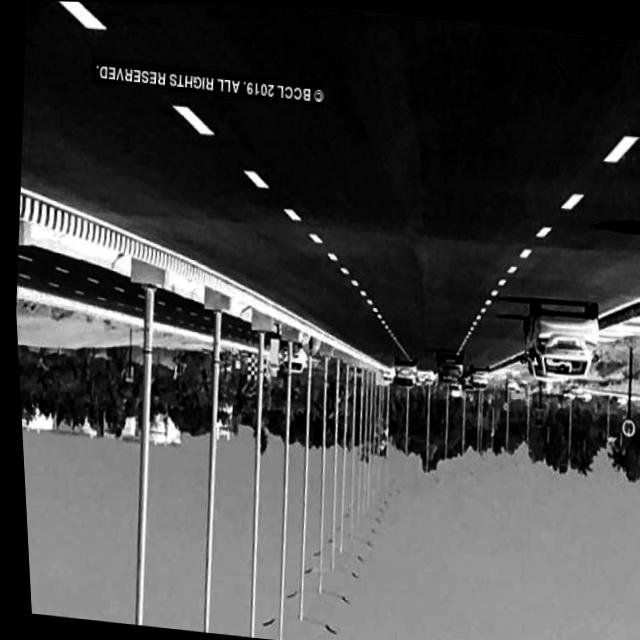cleat: (12, 0, 640, 640)
